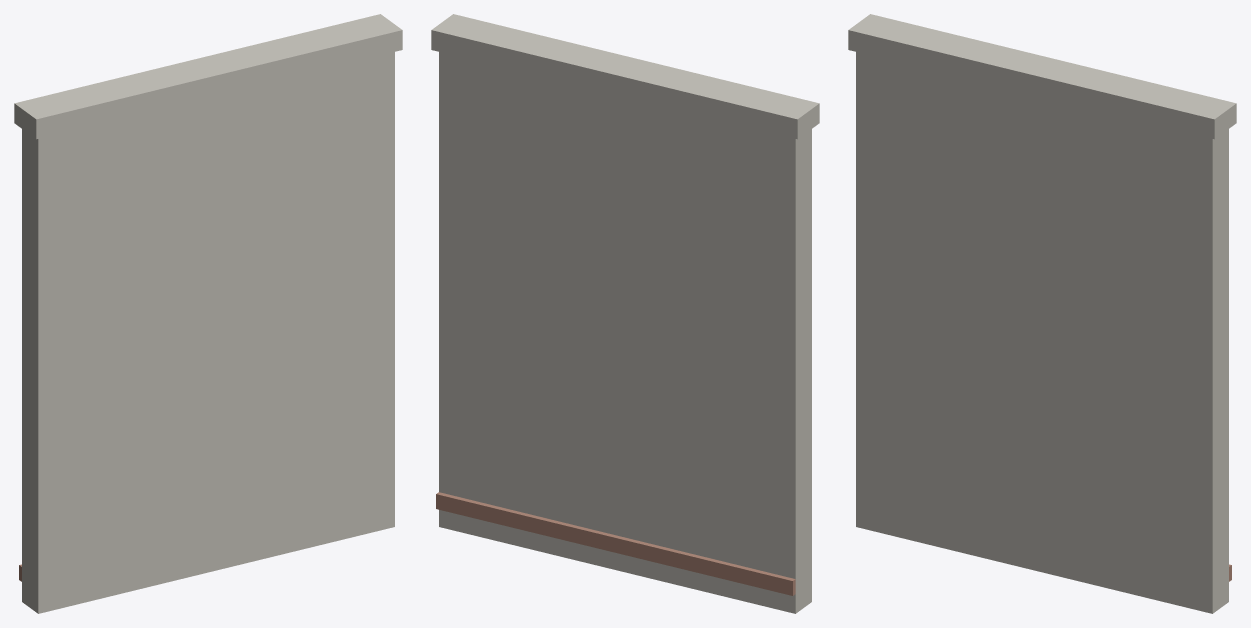
File: iz3_neighborhood_cephe_sıvalı.glb
The picture shows the model from 3 angles, left to right: view 1: azimuth 30°, elevation 25°; view 2: azimuth 150°, elevation 25°; view 3: azimuth 330°, elevation 25°; orthographic projection.
Visible parts, largest first — view 1: wall, cornice; view 2: wall, cornice, sill; view 3: wall, cornice.
Part boxes in pixels (x1=…): wall: x1=22, y1=17, x2=394, y2=613; cornice: x1=14, y1=14, x2=402, y2=139; wall: x1=439, y1=17, x2=811, y2=613; cornice: x1=431, y1=14, x2=819, y2=139; sill: x1=436, y1=492, x2=795, y2=595; wall: x1=856, y1=17, x2=1228, y2=613; cornice: x1=848, y1=14, x2=1236, y2=139.
Bounding box in the file's own units: 3.08 × 4 × 0.32.
